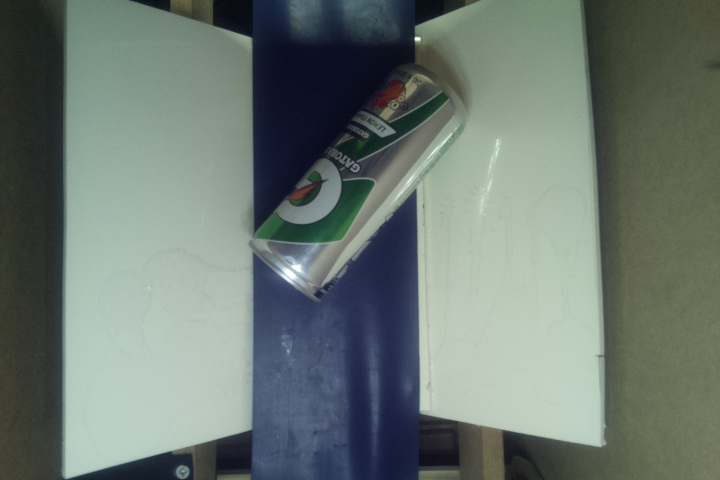can: (249, 54, 469, 302)
